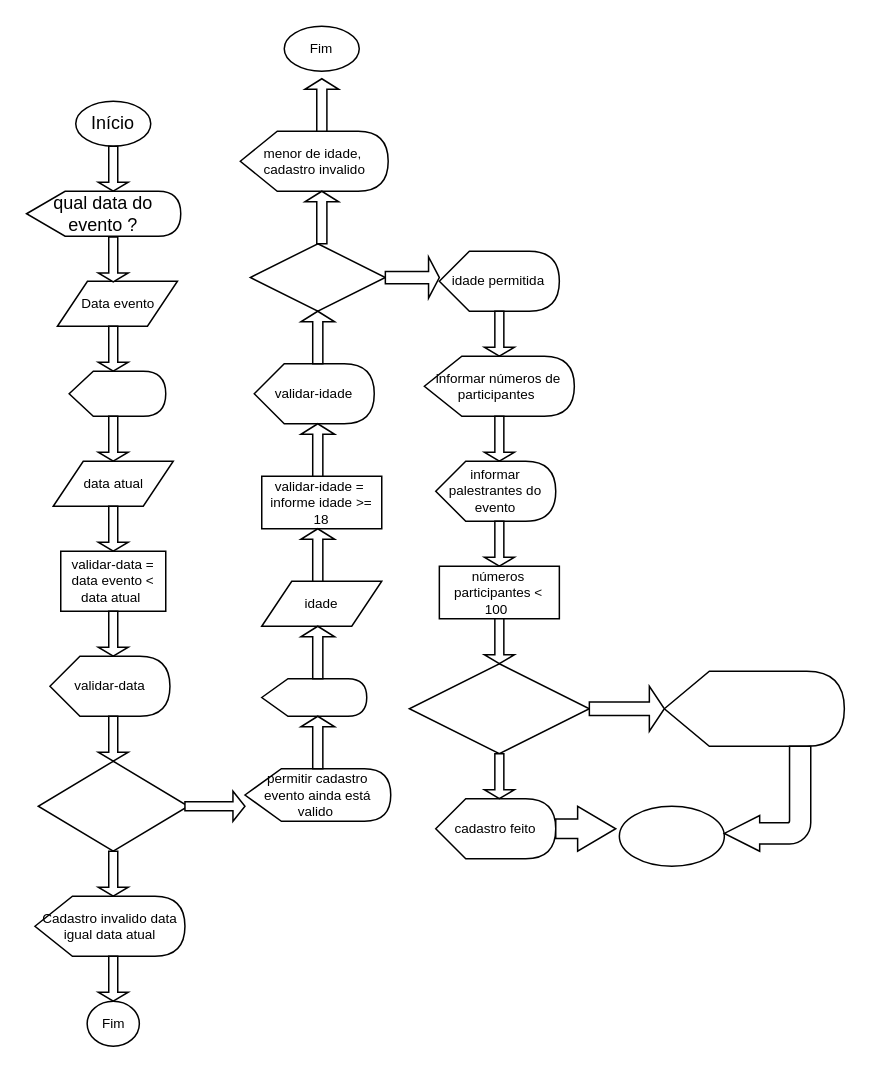
The diagram is 872 pixels wide and 1073 high, and some of its shapes have lost their labels. The centre of each missing label's shape, as x and y in pixels:
evento igual ou posterior ?: the point at 112,805
Fim.: the point at 671,835
idade igual ou menor a 18: the point at 317,276
informe a data atual ?: the point at 117,393
informe idade: the point at 313,696
numero de participantes já estão preenchidos.: the point at 753,708
validar cadastro se há vagas: the point at 498,708
